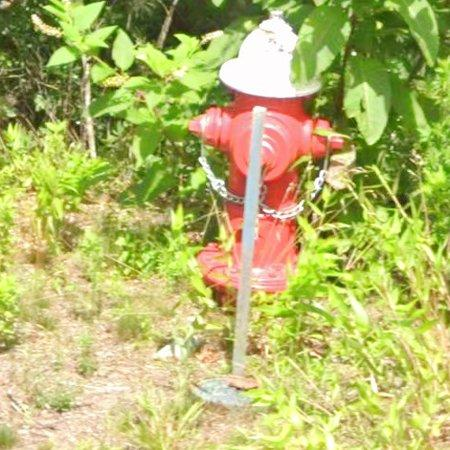a fire hydrant: (189, 11, 345, 292)
